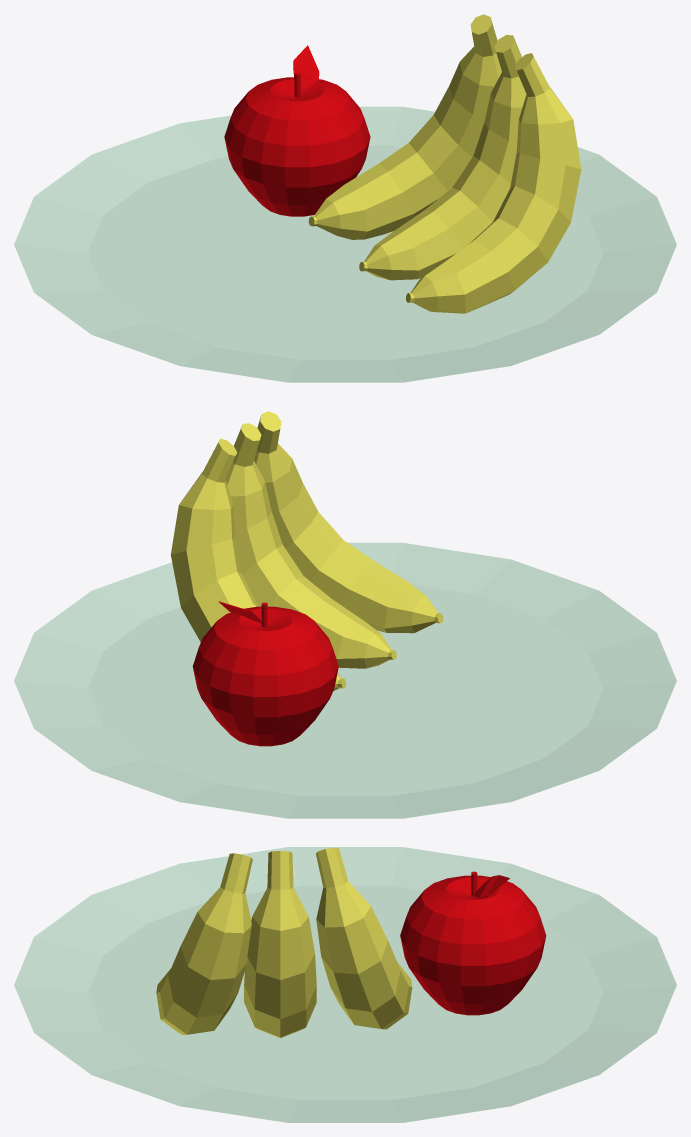
Rendered from frutero.fbx.
The picture shows the model from 3 angles, top to bottom: view 1: azimuth 30°, elevation 25°; view 2: azimuth 150°, elevation 25°; view 3: azimuth 270°, elevation 25°; orthographic projection.
Parts seen in each view (by area): view 1: Circle, Torus.002, Sphere, Torus, Torus.001; view 2: Circle, Sphere, Torus.002, Torus.001, Torus; view 3: Circle, Sphere, Torus, Torus.002, Torus.001.
Boxes of the visible parts, x1=… form: Circle: x1=14, y1=106, x2=676, y2=382; Torus.002: x1=406, y1=53, x2=581, y2=313; Sphere: x1=224, y1=45, x2=370, y2=216; Torus: x1=308, y1=14, x2=501, y2=239; Torus.001: x1=359, y1=34, x2=526, y2=280; Circle: x1=14, y1=542, x2=676, y2=818; Sphere: x1=192, y1=601, x2=338, y2=746; Torus.002: x1=254, y1=411, x2=443, y2=633; Torus.001: x1=225, y1=423, x2=396, y2=668; Torus: x1=171, y1=438, x2=346, y2=691; Circle: x1=14, y1=847, x2=676, y2=1122; Sphere: x1=400, y1=871, x2=546, y2=1015; Torus: x1=316, y1=847, x2=412, y2=1029; Torus.002: x1=156, y1=853, x2=252, y2=1034; Torus.001: x1=244, y1=851, x2=316, y2=1037.
Size of the model in its own units: 224 by 85.96 by 228.
